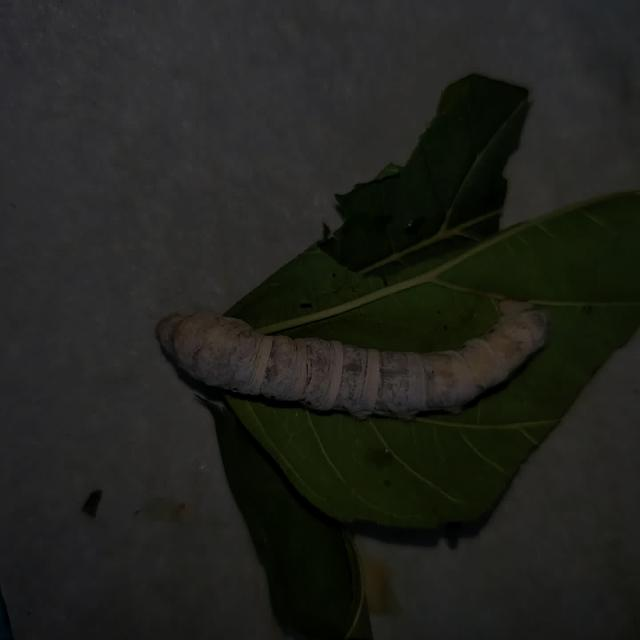Grasserie: (143, 262, 562, 446)
